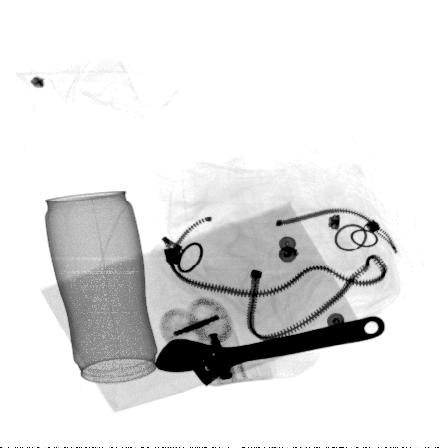Wrench: (152, 317, 386, 390)
